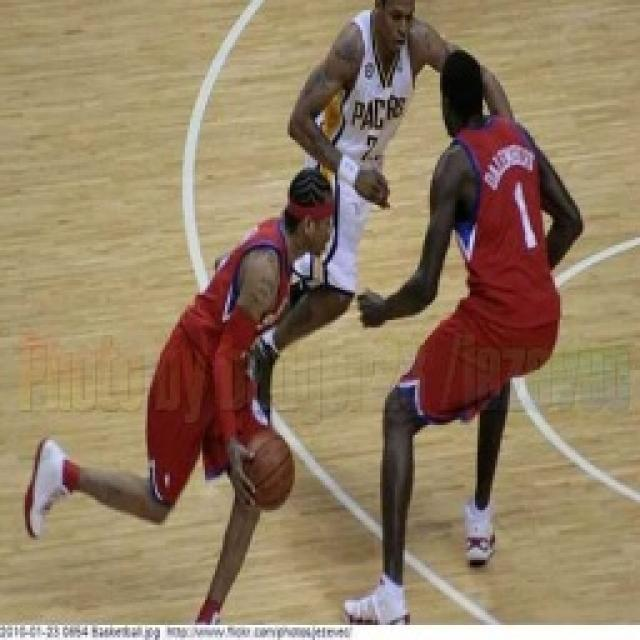basketball: (230, 422, 306, 516)
